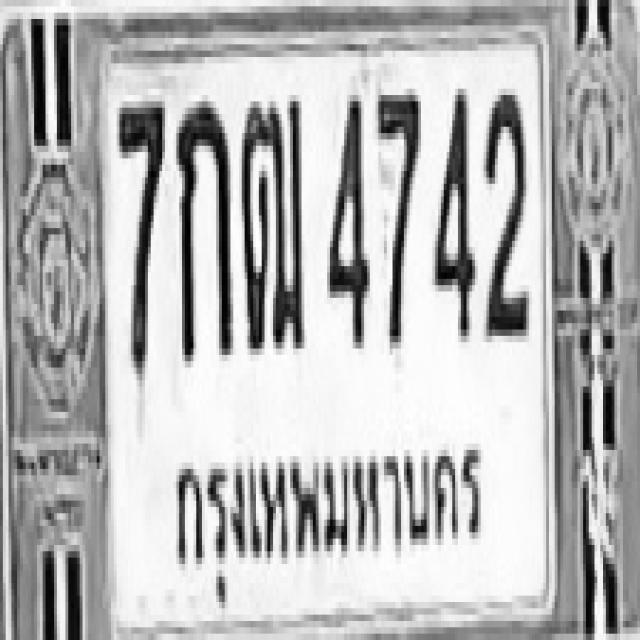10GorGai: (173, 95, 230, 355)
2: (482, 89, 528, 336)
27ThorPhuThao: (239, 92, 301, 352)
4: (431, 82, 474, 336), (324, 89, 367, 342)
7: (117, 95, 162, 368), (376, 89, 418, 342)
Bangkok: (165, 426, 496, 605)
